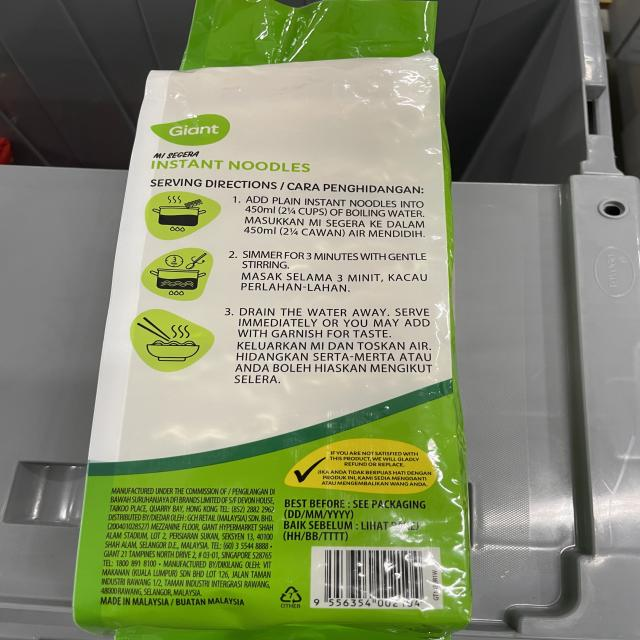object_name: (133, 3, 451, 616)
